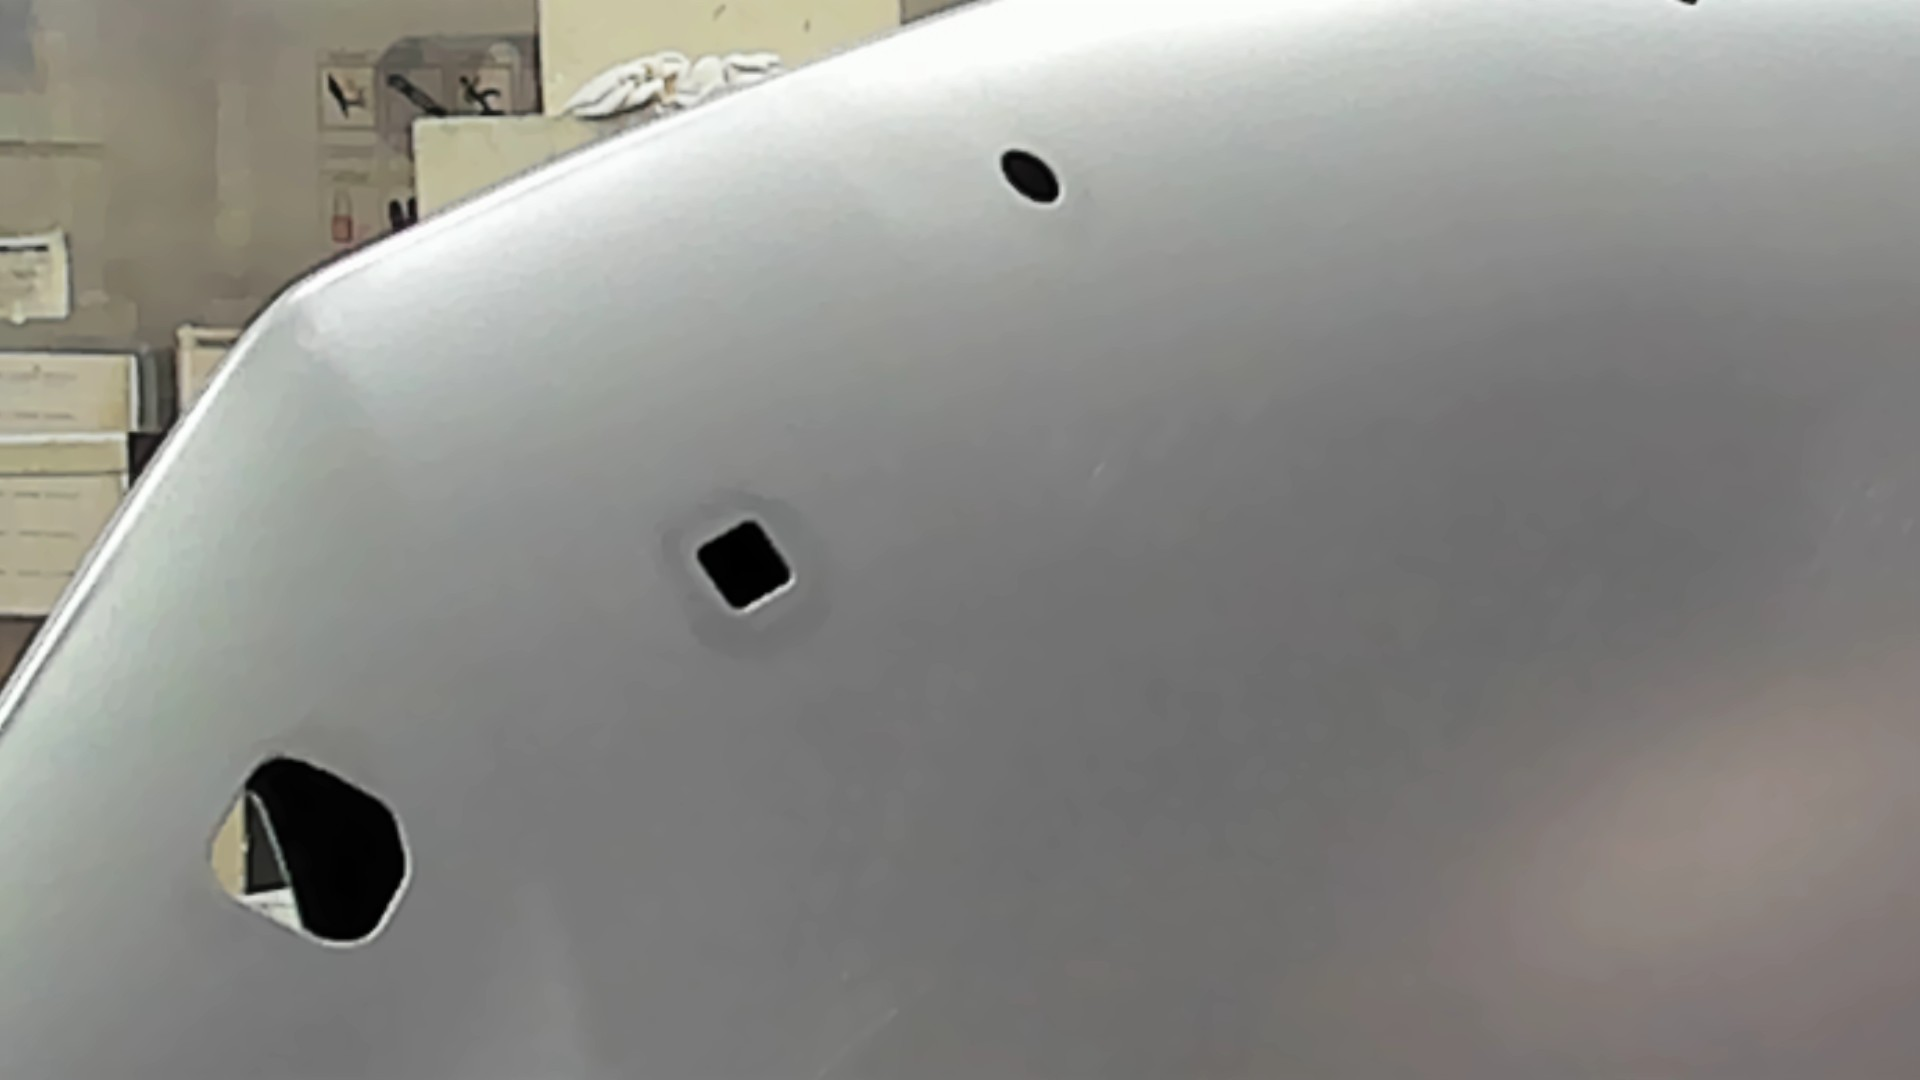capo: (798, 214, 1920, 1080)
chico: (996, 144, 1063, 206)
grande: (196, 746, 415, 951)
mediano: (688, 510, 800, 622)
